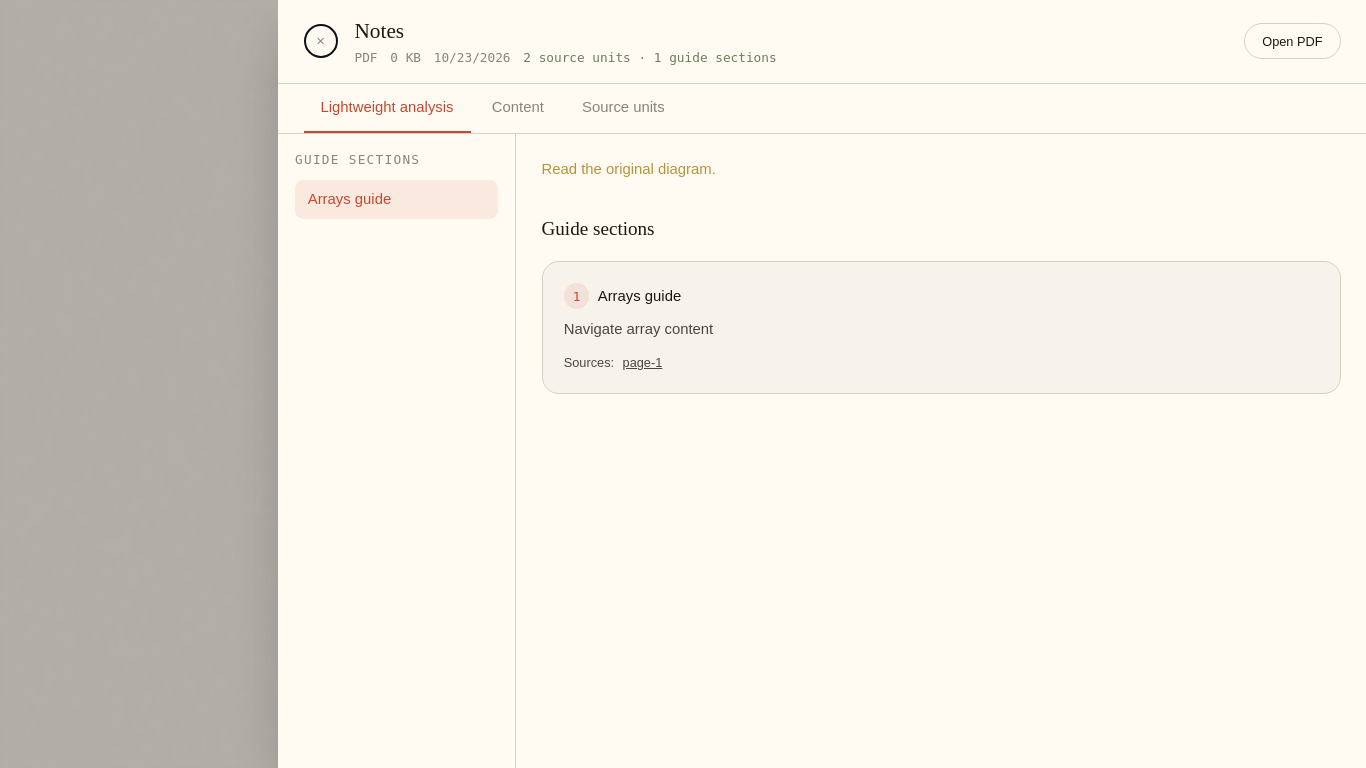
Test: navigates prepared source units and guide sections without storage paths or invented rich counts
expect the heading "Guide sections" is shown: met, box [542,218,654,239]
expect the button "Arrays guide" is shown: met, box [295,180,498,219]
Click the button "Source units". click: coordinates (623, 108)
box: [565,84,682,133]
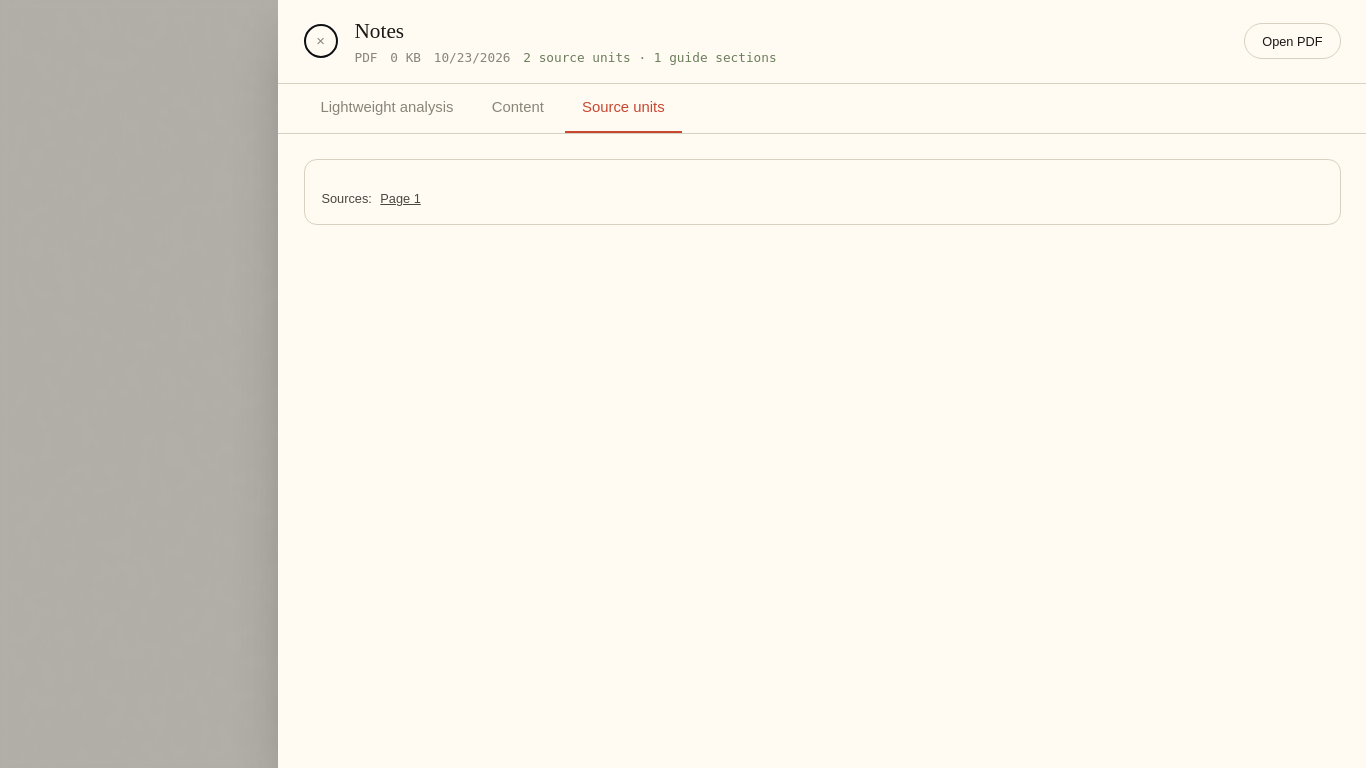
Click the button "Page 1". click: coordinates (400, 198)
box: [380,190,421,207]
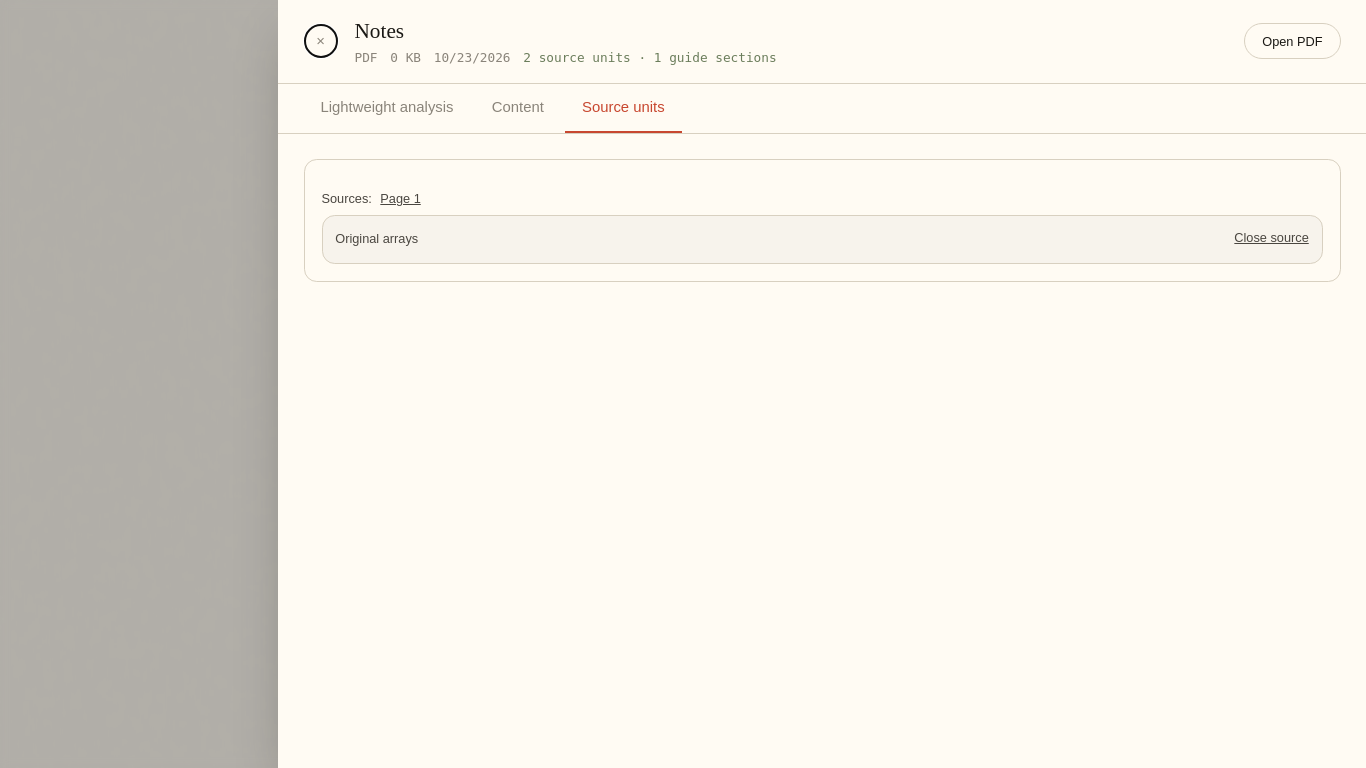
expect the text "Original arrays" is shown: met, box [335,231,418,246]
